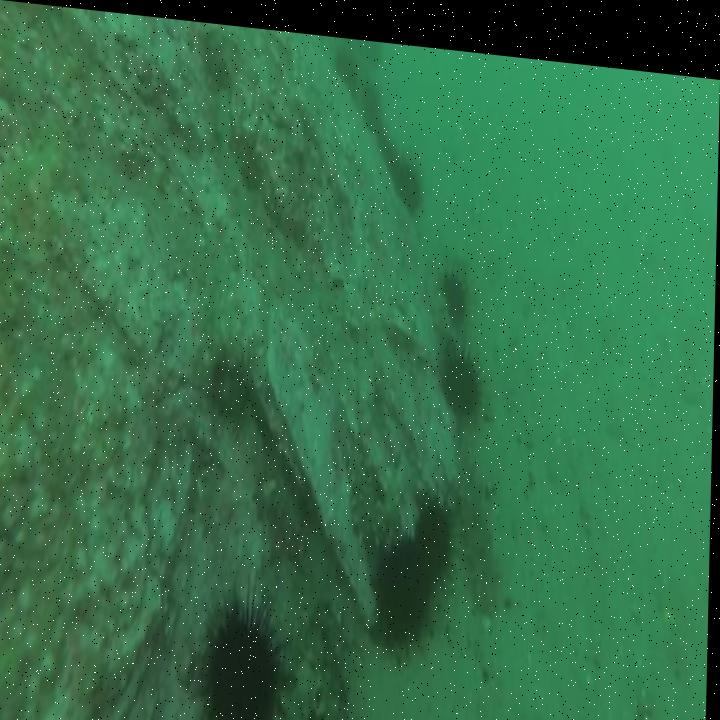echinus: (188, 578, 290, 720), (373, 517, 439, 653), (412, 478, 469, 591), (440, 326, 489, 417), (434, 243, 473, 322), (389, 137, 429, 212), (361, 71, 392, 141), (331, 40, 365, 92)
holothurian: (341, 420, 400, 556), (456, 483, 510, 618), (309, 609, 366, 720), (284, 637, 322, 720)
